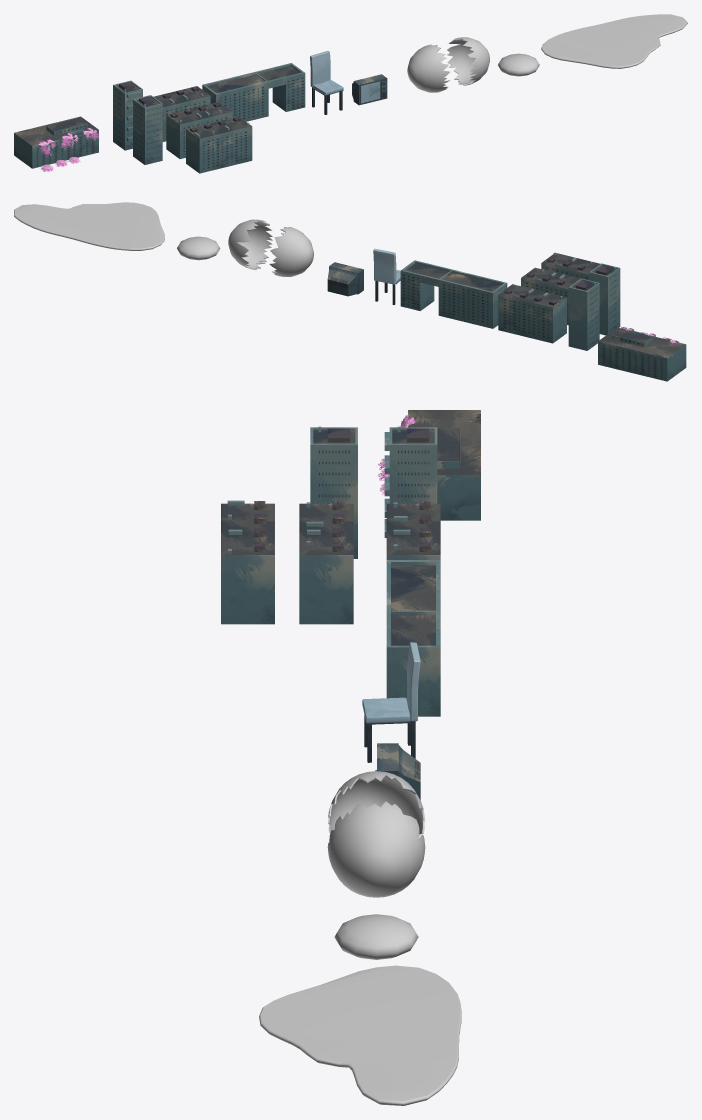
Rendered from environment asset pink.fbx.
3 views of the same model, one above another, from view 1: azimuth 30°, elevation 25°; view 2: azimuth 150°, elevation 25°; view 3: azimuth 270°, elevation 25° (orthographic). The views are drawn at different scales.
Visible parts, largest first — view 1: G1_eggwhite, G2_building6, G2_building1, G2_building7, G2_building3_tall, G2_building5, G2_building8, G1_eggshell2, G1_eggshell1, G2_building2_tall, G2_chair, G2_building4 (+2 smaller); view 2: G1_eggwhite, G2_building1, G2_building4, G2_building7, G2_building2_tall, G2_building8, G1_eggshell2, G1_eggshell1, G2_building3_tall, G2_building5, G2_television, G2_chair (+2 smaller); view 3: G1_eggwhite, G1_eggshell2, G2_building5, G2_building6, G2_building1, G2_building8, G2_building2_tall, G2_building3_tall, G2_building4, G1_eggshell1, G2_building7, G1_eggyolk (+2 smaller).
Boxes of the visible parts, left/top/right/bottom form: G1_eggwhite: left=541, top=14, right=687, bottom=68; G2_building6: left=186, top=116, right=252, bottom=173; G2_building1: left=14, top=116, right=98, bottom=168; G2_building7: left=202, top=72, right=268, bottom=121; G2_building3_tall: left=133, top=95, right=162, bottom=164; G2_building5: left=166, top=102, right=232, bottom=158; G2_building8: left=255, top=63, right=305, bottom=111; G1_eggshell2: left=447, top=37, right=489, bottom=85; G1_eggshell1: left=407, top=44, right=450, bottom=92; G2_building2_tall: left=113, top=80, right=142, bottom=150; G2_chair: left=310, top=51, right=343, bottom=114; G2_building4: left=153, top=86, right=210, bottom=141; G1_eggwhite: left=14, top=202, right=164, bottom=250; G2_building1: left=598, top=327, right=686, bottom=381; G2_building4: left=498, top=284, right=566, bottom=343; G2_building7: left=438, top=269, right=507, bottom=328; G2_building2_tall: left=568, top=278, right=599, bottom=350; G2_building8: left=400, top=260, right=452, bottom=310; G1_eggshell2: left=228, top=219, right=273, bottom=270; G1_eggshell1: left=269, top=227, right=313, bottom=276; G2_building3_tall: left=589, top=263, right=620, bottom=335; G2_building5: left=521, top=267, right=580, bottom=325; G2_television: left=327, top=262, right=363, bottom=296; G2_chair: left=373, top=248, right=400, bottom=304; G1_eggwhite: left=259, top=965, right=461, bottom=1105; G1_eggshell2: left=327, top=801, right=425, bottom=897; G2_building5: left=299, top=501, right=353, bottom=624; G2_building6: left=221, top=500, right=274, bottom=624; G2_building1: left=408, top=410, right=480, bottom=520; G2_building8: left=386, top=611, right=440, bottom=716; G2_building2_tall: left=384, top=426, right=437, bottom=537; G2_building3_tall: left=310, top=426, right=357, bottom=558; G2_building4: left=386, top=501, right=440, bottom=559; G1_eggshell1: left=328, top=771, right=425, bottom=839; G2_building7: left=386, top=560, right=440, bottom=615; G1_eggyolk: left=334, top=914, right=418, bottom=959.
Bounding box in the file's own units: 909 × 97.43 × 158.
